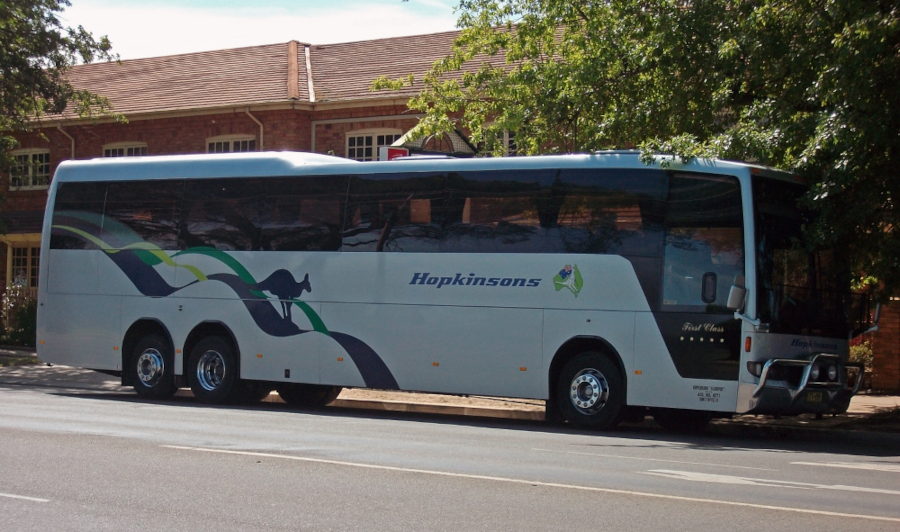autobus: (32, 147, 860, 432)
